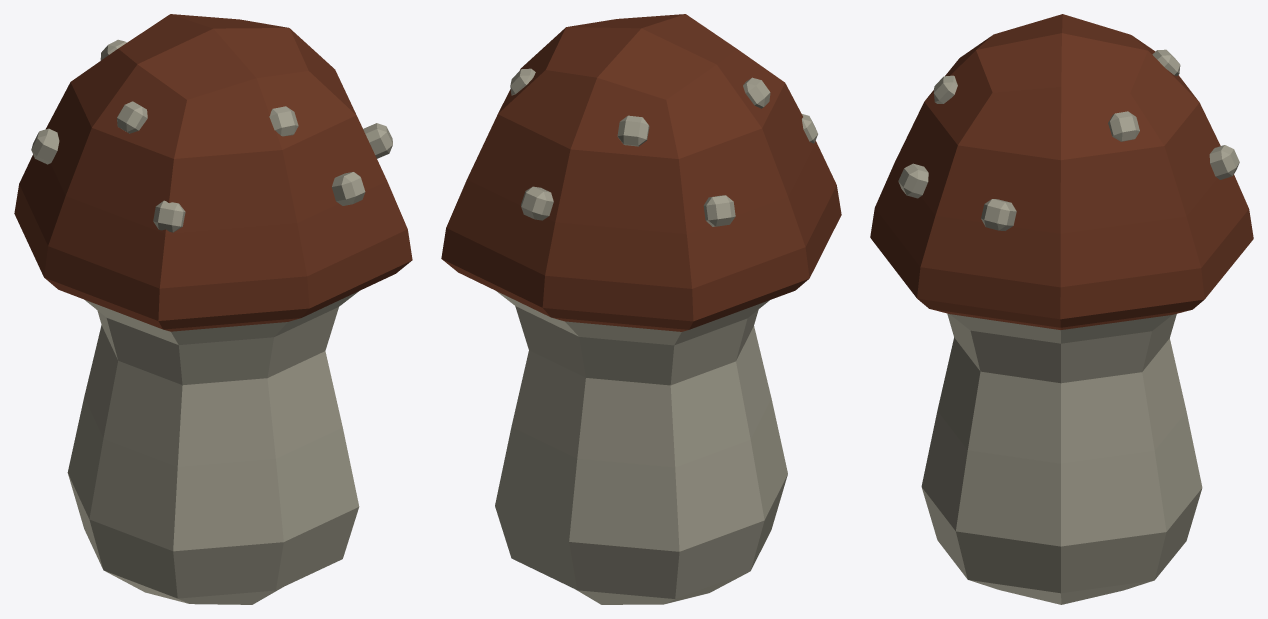
File: Mushroom_2.glb
3 views of the same model, side by side, from view 1: azimuth 30°, elevation 25°; view 2: azimuth 150°, elevation 25°; view 3: azimuth 270°, elevation 25° (orthographic).
Visible parts, largest first — view 1: Mushroom_2; view 2: Mushroom_2; view 3: Mushroom_2.
Part boxes in pixels (bbox=[...]): Mushroom_2: bbox=[14, 14, 412, 604]; Mushroom_2: bbox=[441, 14, 841, 604]; Mushroom_2: bbox=[870, 14, 1253, 604].
Size of the model in its own units: 0.1415 by 0.2237 by 0.1415.
